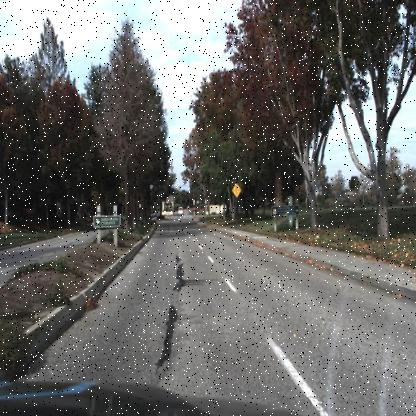car: (178, 207, 184, 215)
